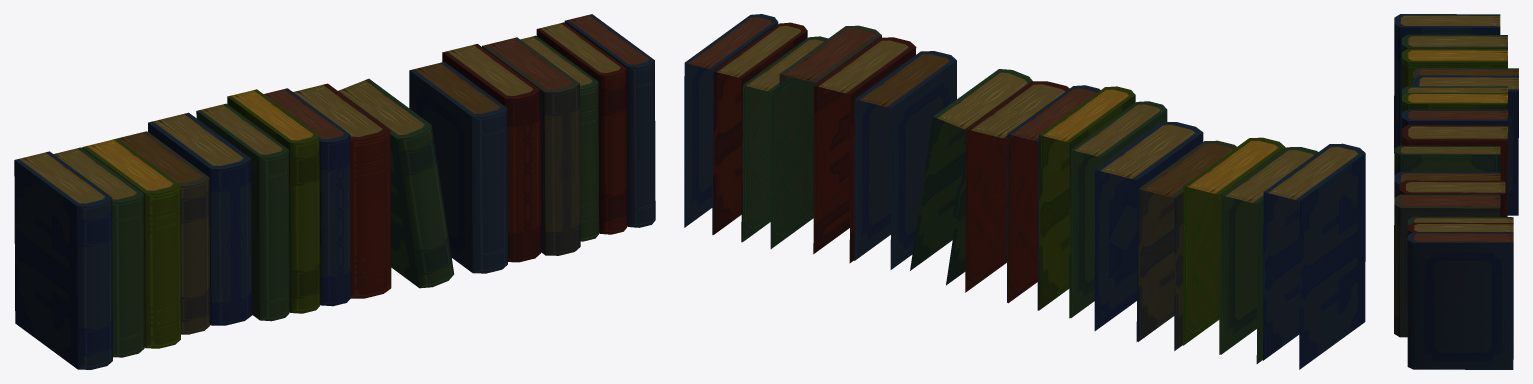
The model's file is BookGroup_Medium_1.gltf.
The picture shows the model from 3 angles, left to right: view 1: azimuth 30°, elevation 25°; view 2: azimuth 150°, elevation 25°; view 3: azimuth 270°, elevation 25°; orthographic projection. The views are drawn at different scales.
Visible parts, largest first — view 1: BookGroup_Medium_1; view 2: BookGroup_Medium_1; view 3: BookGroup_Medium_1.
Part boxes in pixels (x1,y1,x2,y2): BookGroup_Medium_1: [14, 14, 655, 369]; BookGroup_Medium_1: [684, 14, 1365, 369]; BookGroup_Medium_1: [1394, 14, 1518, 369].
Bounding box in the file's own units: 1.06 × 0.2983 × 0.2475.
Materials: 1 (1 with a texture image).
